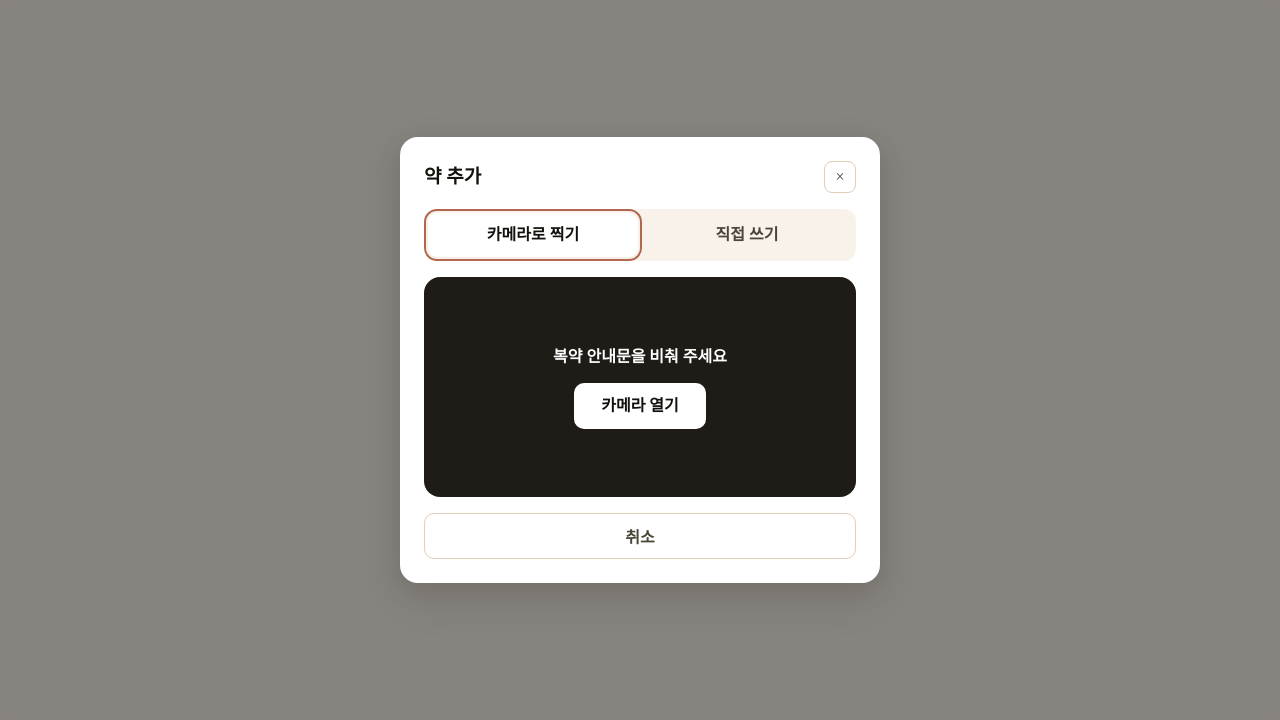
MedicationAddModal (Chrome) › 칩을 모두 끄면 "시간을 하나 이상 골라 주세요" (점검 L-2)
Click the tab "직접 쓰기".
click(747, 235)  # box left=642, top=213, right=852, bottom=257
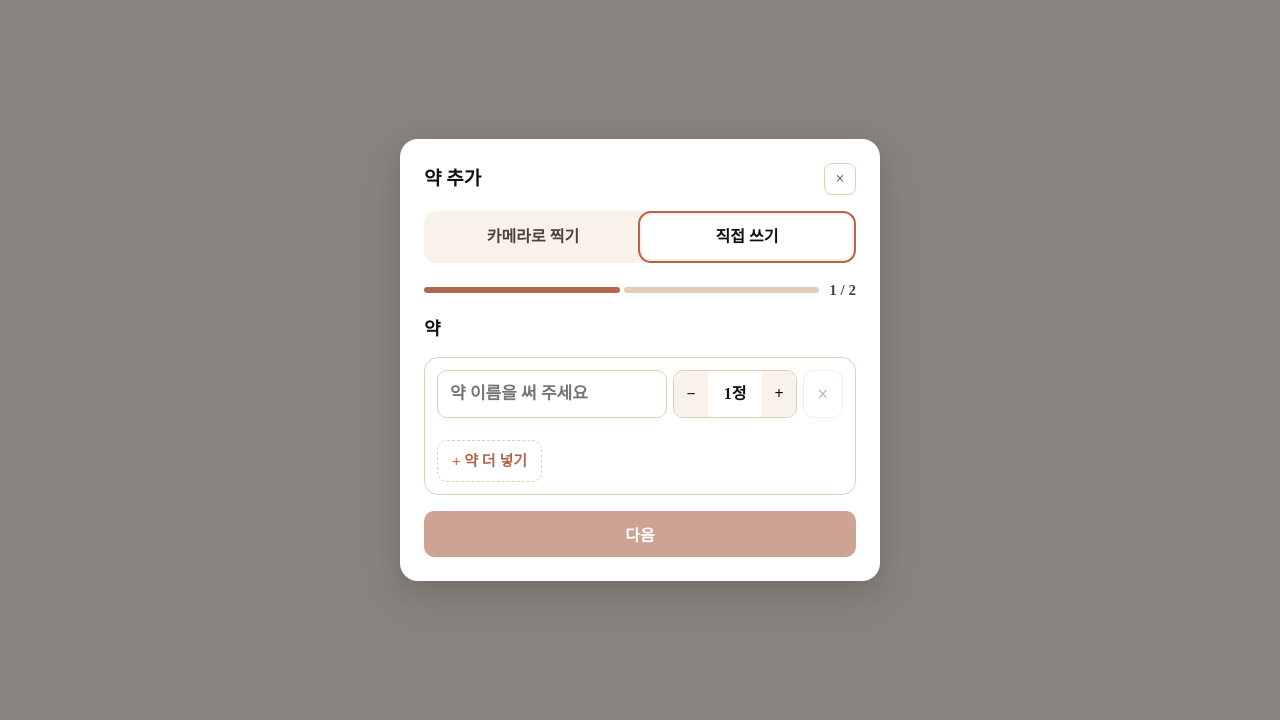
Type "혈압약" into the field named "1번째 약 이름".
click(552, 394); type("혈압약")  # box left=437, top=370, right=667, bottom=418
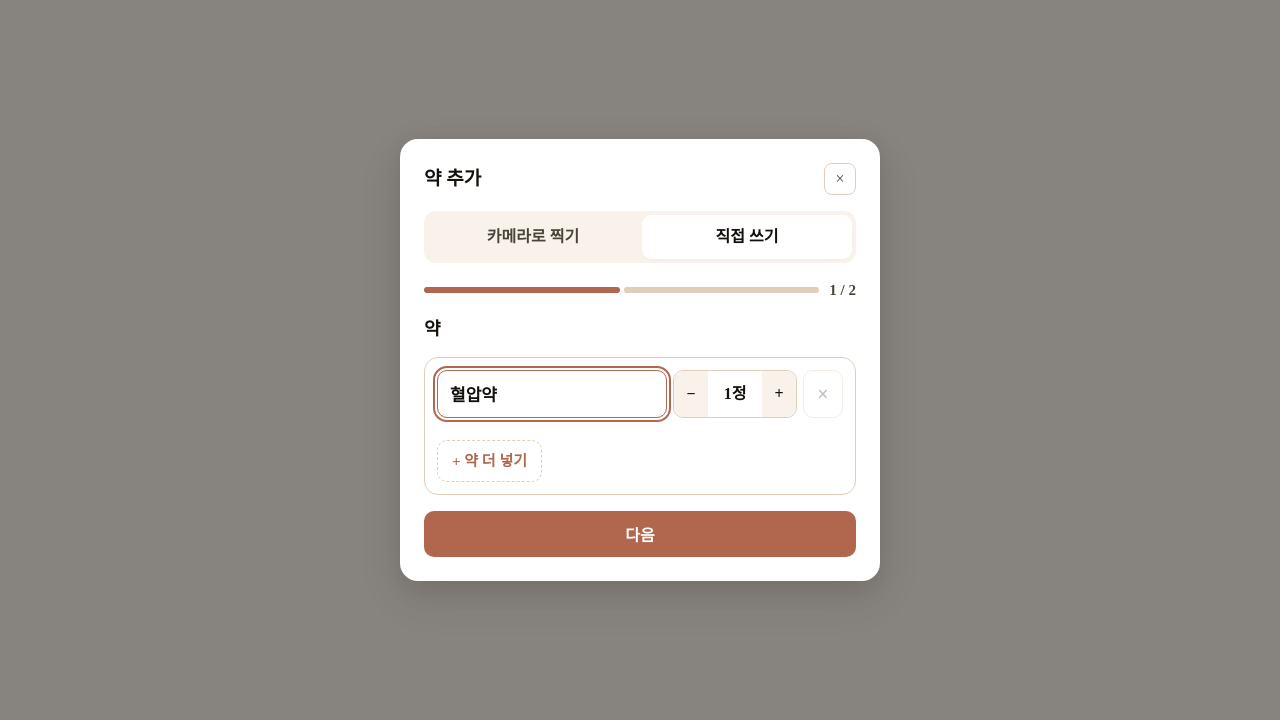
Click the button "다음".
click(640, 534)  # box left=424, top=511, right=856, bottom=557
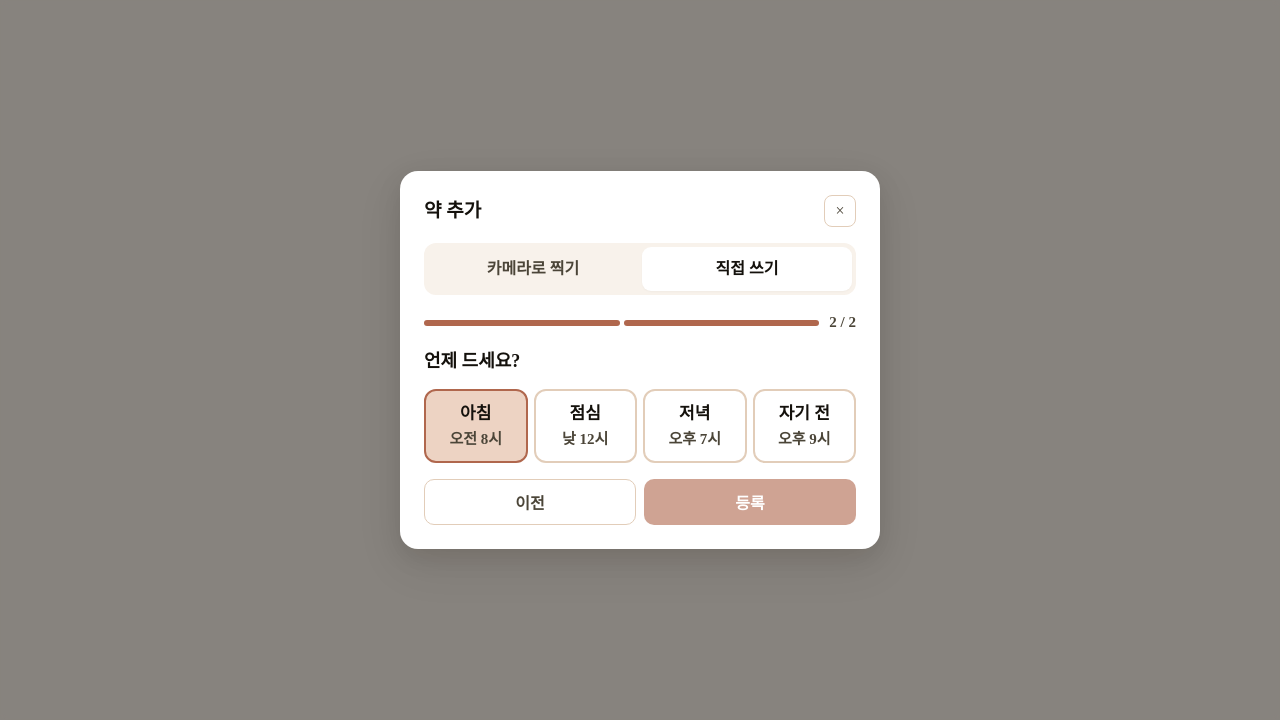
Click the button "아침 오전 8시".
click(476, 426)  # box left=424, top=389, right=528, bottom=463
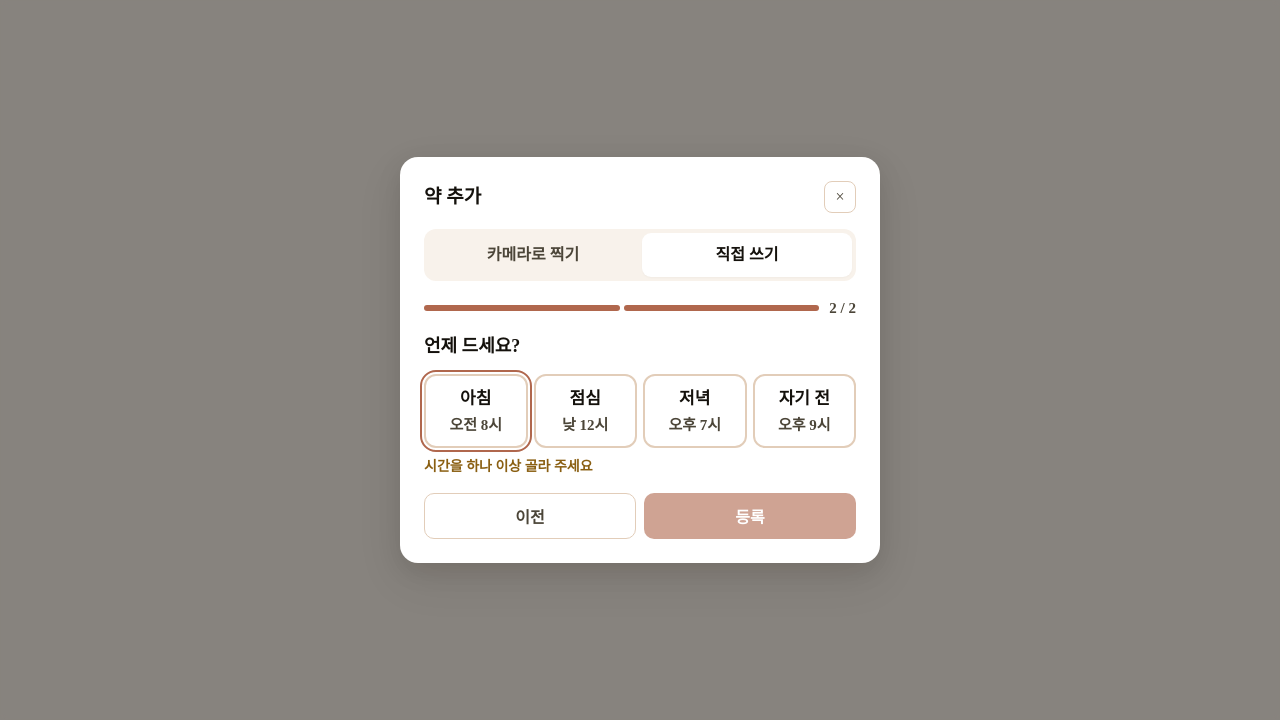
Expected: the button "등록" is disabled, left=644, top=493, right=856, bottom=539
Expected: the text "시간을 하나 이상 골라 주세요" is shown, left=424, top=459, right=593, bottom=474
